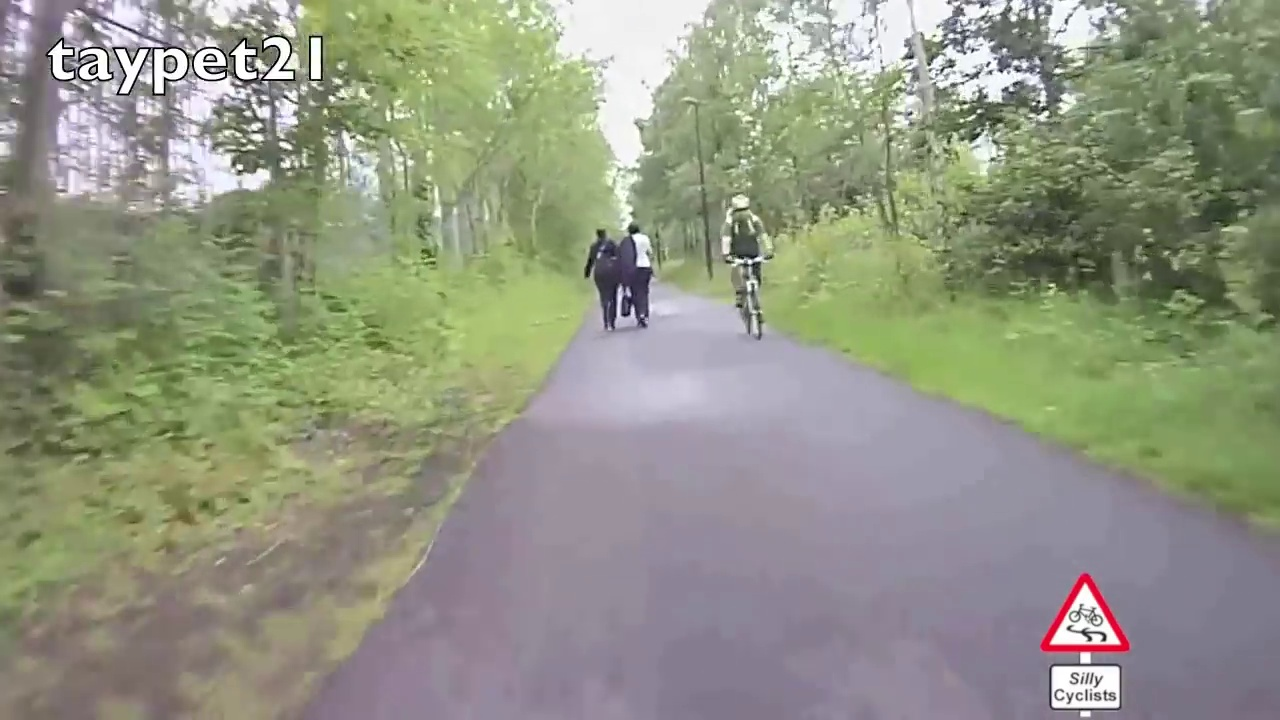cyclist_front: (709, 184, 781, 355)
